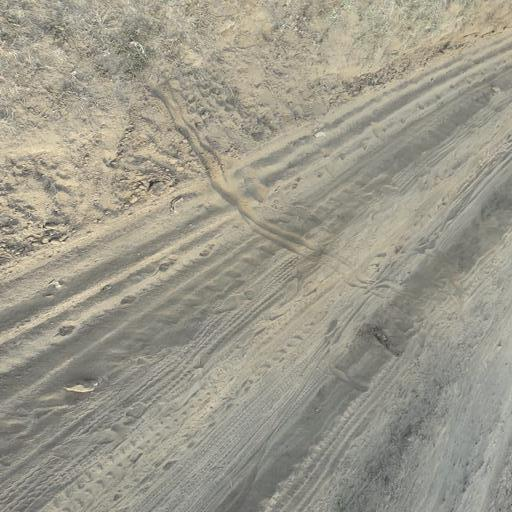vehicle_track: (0, 32, 512, 512)
